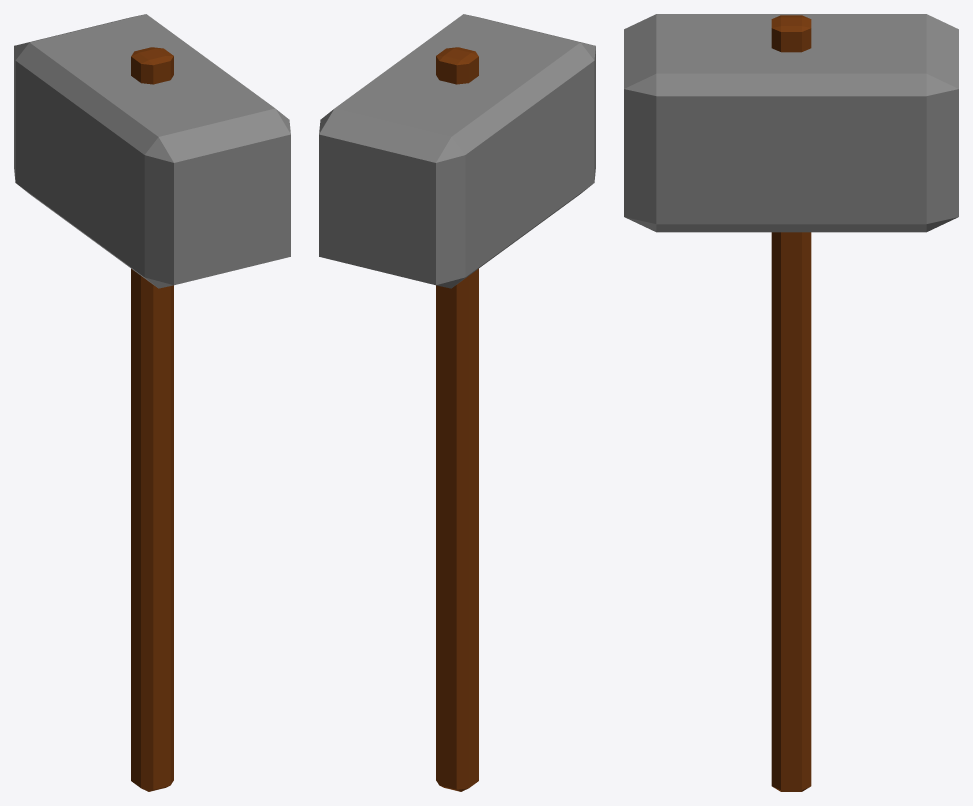
Rendered from hammer.dae.
3 views of the same model, side by side, from view 1: azimuth 30°, elevation 25°; view 2: azimuth 150°, elevation 25°; view 3: azimuth 270°, elevation 25° (orthographic). The views are drawn at different scales.
Visible parts, largest first — view 1: Cube.001, Cube; view 2: Cube.001, Cube; view 3: Cube.001, Cube.
Part boxes in pixels (x1=…): Cube.001: x1=14, y1=14, x2=290, y2=288; Cube: x1=131, y1=47, x2=173, y2=791; Cube.001: x1=319, y1=14, x2=595, y2=288; Cube: x1=436, y1=47, x2=478, y2=791; Cube.001: x1=624, y1=14, x2=958, y2=232; Cube: x1=771, y1=15, x2=811, y2=791.
Bounding box in the file's own units: 1.5 × 2.88 × 7.26.
